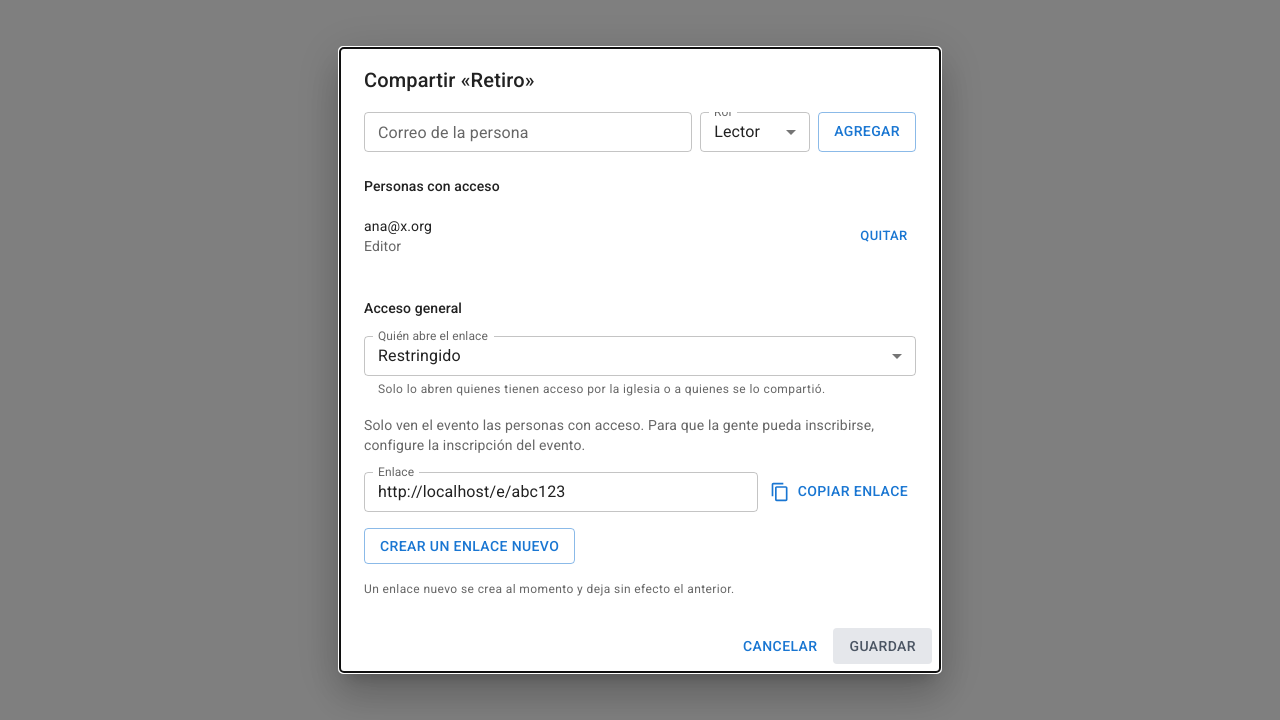
Test: ShareEventDialog › never saves by itself and keeps Guardar off until something changes
The image size is (1280, 720).
Check: the button "Guardar" is disabled, box [834,628,932,664]
Click the dropdown named "Quién abre el enlace". click: (419, 356)
box: [378,346,461,365]
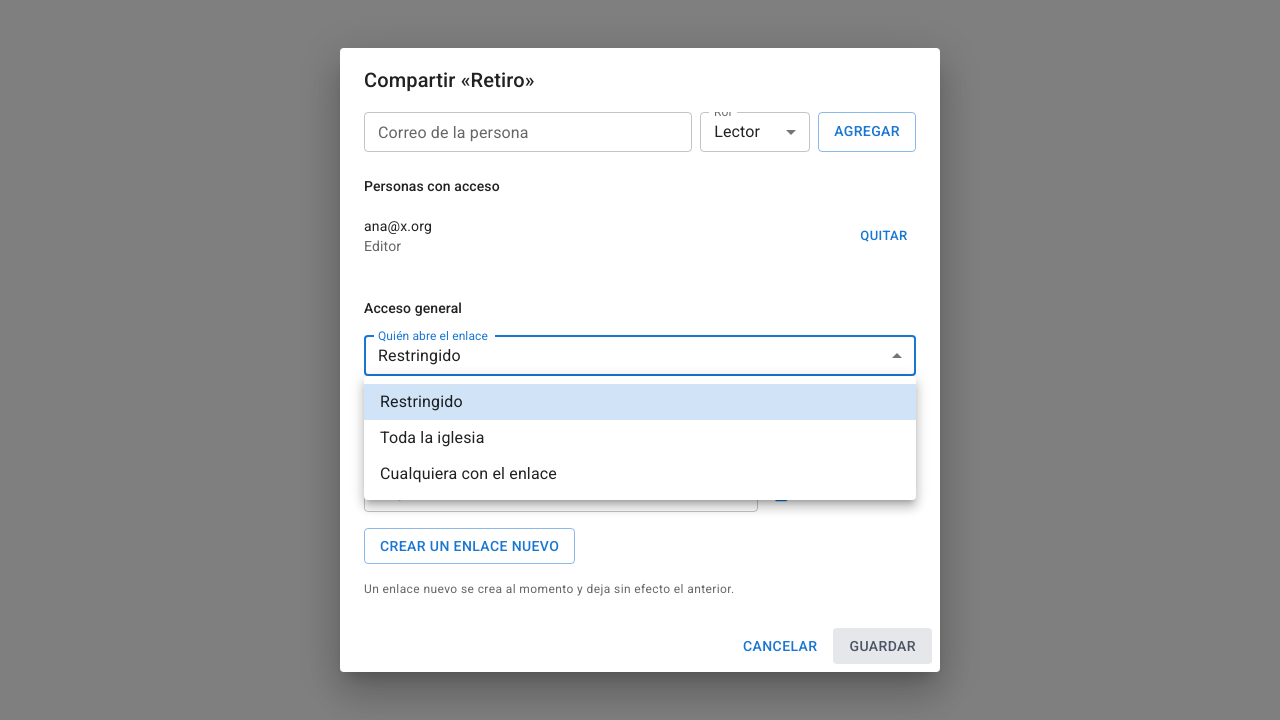
Click the option "Cualquiera con el enlace". click: (468, 474)
box: [380,464,557,483]
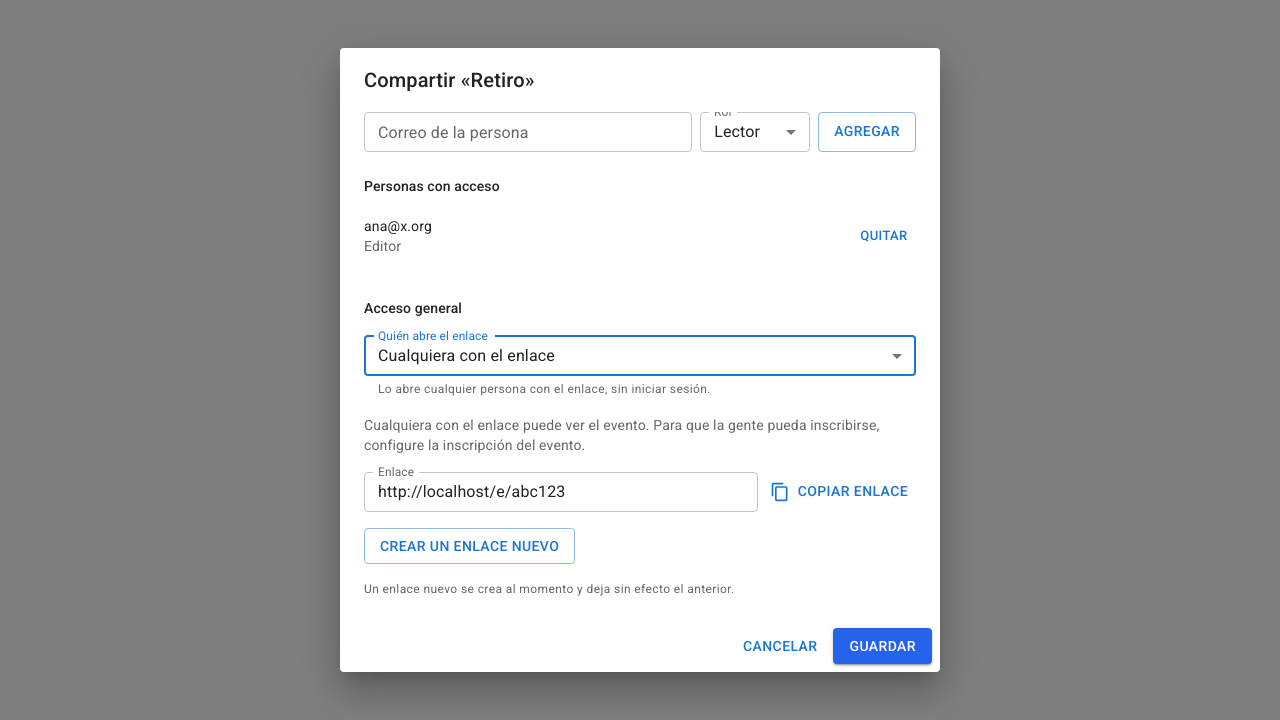
Check: the button "Guardar" is enabled, box [834,628,932,664]
